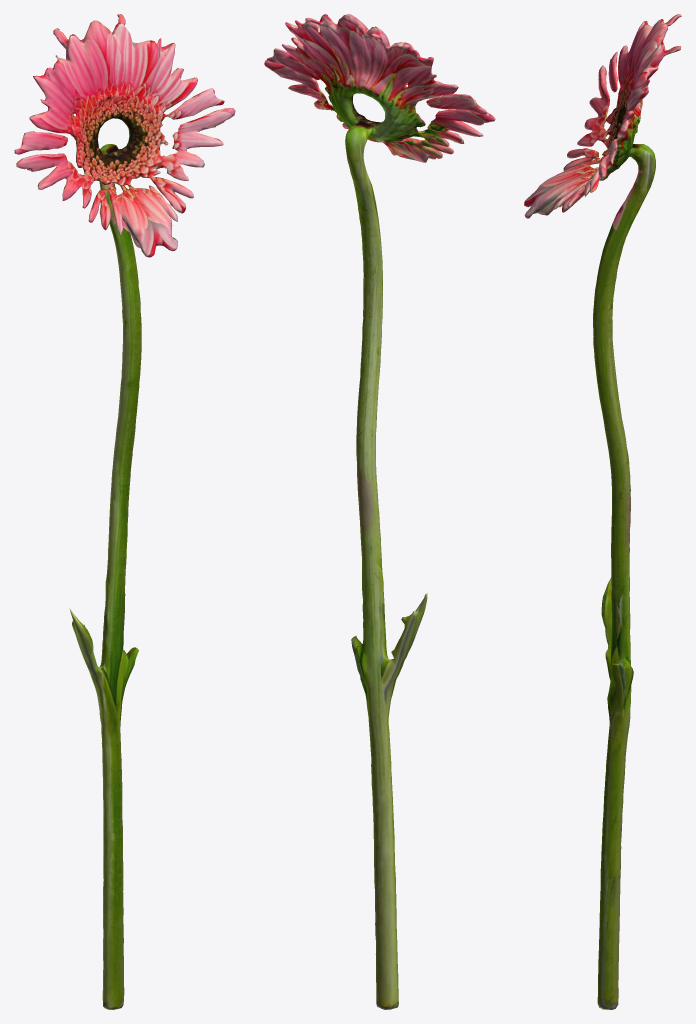
The model's file is Pink Gerbera Flower.glb.
The picture shows the model from 3 angles, left to right: view 1: azimuth 30°, elevation 25°; view 2: azimuth 150°, elevation 25°; view 3: azimuth 270°, elevation 25°; orthographic projection. The views are drawn at different scales.
Visible parts, largest first — view 1: texture_mapping; view 2: texture_mapping; view 3: texture_mapping.
Boxes of the visible parts, x1,y1,x2,y2 form: texture_mapping: [14, 14, 235, 1009]; texture_mapping: [264, 14, 495, 1009]; texture_mapping: [524, 14, 681, 1009].
Size of the model in its own units: 0.2398 by 1 by 0.1456.
Materials: 1 (1 with a texture image).
